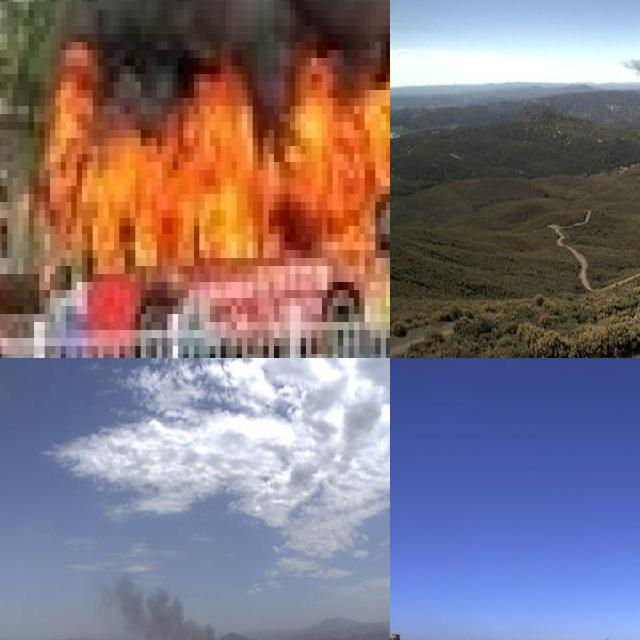fire: (28, 10, 390, 306)
smoke: (92, 559, 272, 640), (618, 52, 640, 100)
